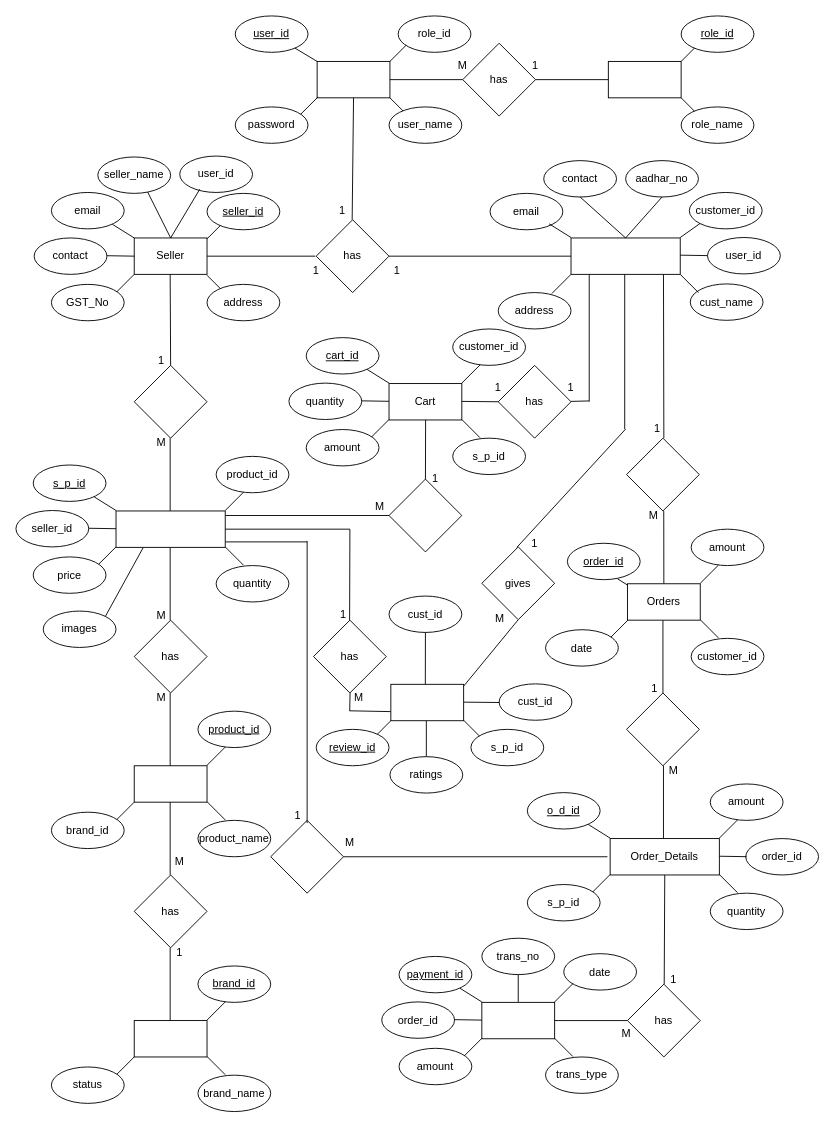
This 834x1127 diagram has some shape labels left out. Each missing label, with the centre of its shape:
added to: point 425,515
Brands: point 170,1038
contains: point 307,856
Customer: point 625,255
have: point 662,729
Payments: point 518,1020
places: point 662,474
Products: point 170,783
Reviews: point 427,702
Role: point 644,79
Seller_Products: point 170,528
sells: point 170,401
User: point 353,79
